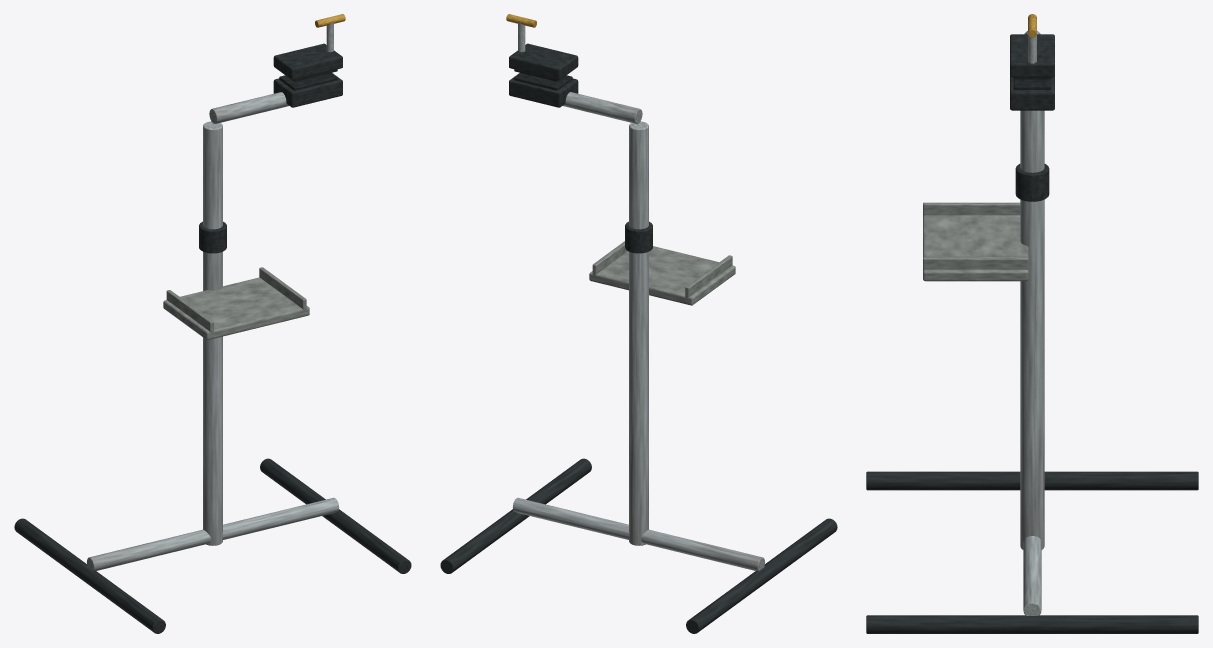
The model's file is GR_BikeRepairStand_02.glb.
3 renders of one model, left to right at view 1: azimuth 30°, elevation 25°; view 2: azimuth 150°, elevation 25°; view 3: azimuth 270°, elevation 25°, orthographic. The views are drawn at different scales.
Parts seen in each view (by area): view 1: Static; view 2: Static; view 3: Static.
Part boxes in pixels (box(x1,y1,x2,y2)): Static: box(14, 14, 411, 633); Static: box(440, 14, 837, 633); Static: box(866, 14, 1198, 633).
Size of the model in its own units: 0.955 by 1.78 by 0.88.
1 material, 1 textured.
